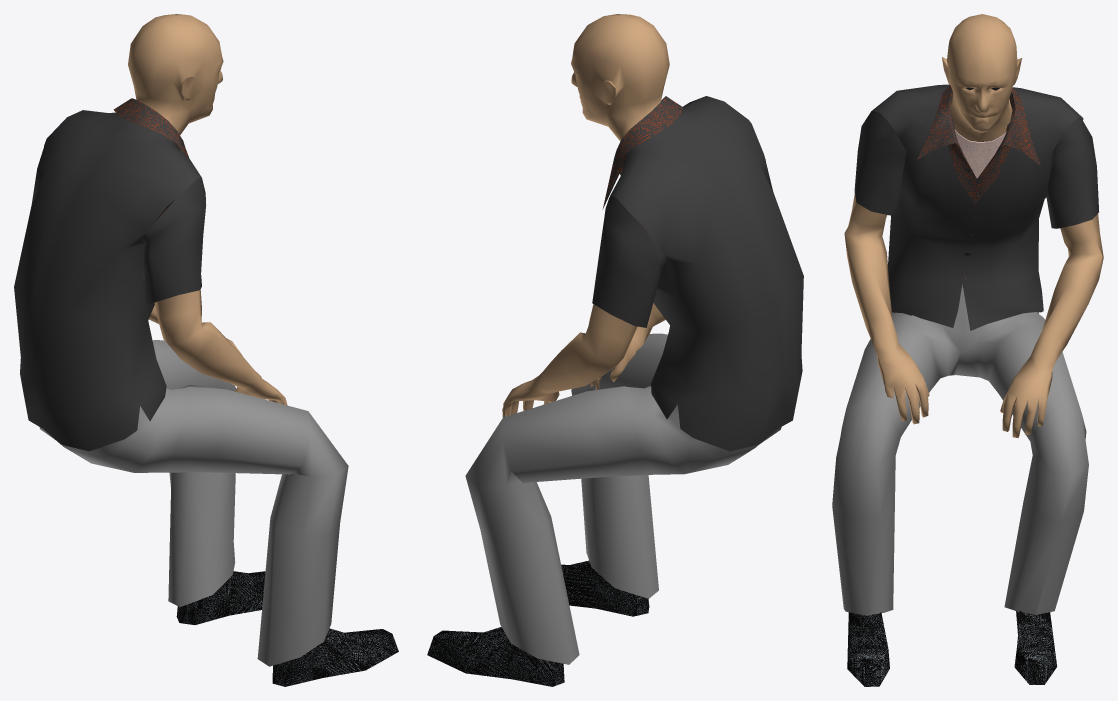
Rendered from OturanInsan.fbx.
3 views of the same model, side by side, from view 1: azimuth 30°, elevation 25°; view 2: azimuth 150°, elevation 25°; view 3: azimuth 270°, elevation 25° (orthographic). The views are drawn at different scales.
Parts seen in each view (by area): view 1: Group8, Group6, Group5, Group7; view 2: Group8, Group6, Group5, Group7; view 3: Group8, Group6, Group5, Group7, Group3.
Part boxes in pixels (<box>): Group8: <box>14,98,206,451</box>; Group6: <box>39,340,348,666</box>; Group5: <box>128,14,287,405</box>; Group7: <box>176,571,398,686</box>; Group8: <box>592,96,803,451</box>; Group6: <box>465,333,781,664</box>; Group5: <box>502,14,669,417</box>; Group7: <box>427,560,649,686</box>; Group8: <box>854,84,1098,330</box>; Group6: <box>832,284,1088,615</box>; Group5: <box>844,14,1103,437</box>; Group7: <box>847,611,1057,686</box>; Group3: <box>955,130,1006,178</box>.
Bounding box in the file's own units: 47.58 × 92.39 × 38.1.
